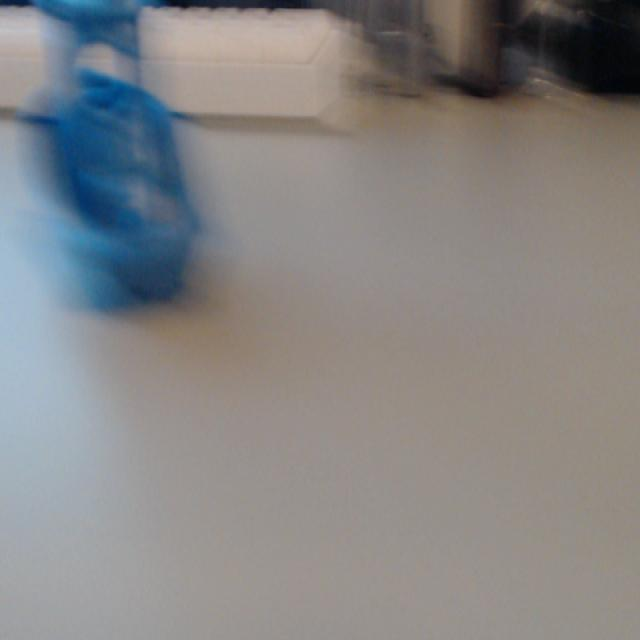benchy: (27, 61, 205, 304)
